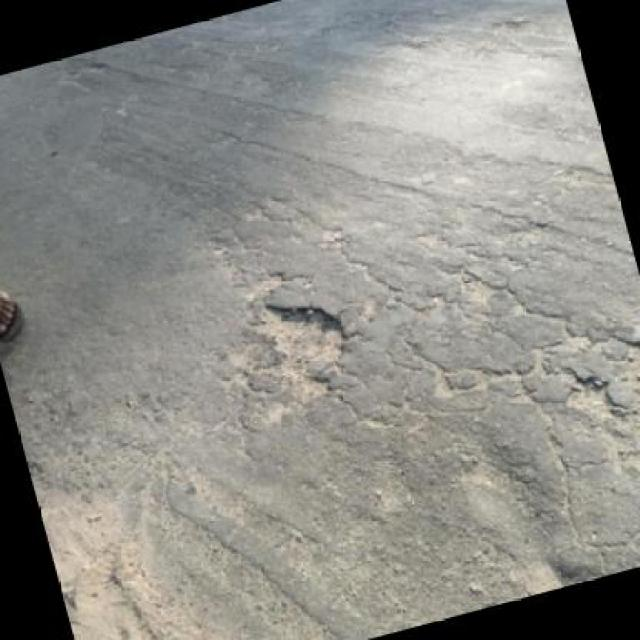pothole1: (241, 282, 359, 402), (559, 368, 623, 430)
